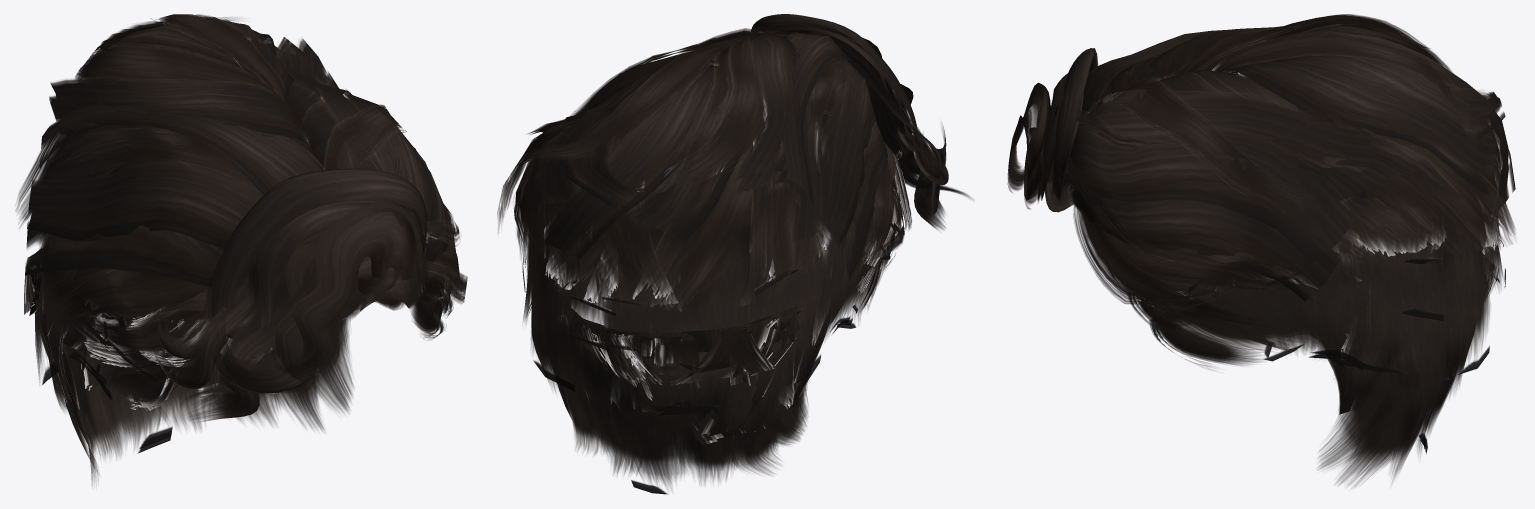
The model's file is curlyside.glb.
3 views of the same model, side by side, from view 1: azimuth 30°, elevation 25°; view 2: azimuth 150°, elevation 25°; view 3: azimuth 270°, elevation 25° (orthographic). The views are drawn at different scales.
Visible parts, largest first — view 1: TRIANGLE - CURLY - SIDE PART, TRIANGLE - CURLY - SIDE PART.002, TRIANGLE - CURLY - SIDE PART.001, TRIANGLE - CURLY - SIDE PART.003; view 2: TRIANGLE - CURLY - SIDE PART, TRIANGLE - CURLY - SIDE PART.001, TRIANGLE - CURLY - SIDE PART.003, TRIANGLE - CURLY - SIDE PART.002; view 3: TRIANGLE - CURLY - SIDE PART, TRIANGLE - CURLY - SIDE PART.002, TRIANGLE - CURLY - SIDE PART.001, TRIANGLE - CURLY - SIDE PART.003.
Part boxes in pixels (left/top/right/bottom): TRIANGLE - CURLY - SIDE PART: left=15, top=14, right=467, bottom=485; TRIANGLE - CURLY - SIDE PART.002: left=150, top=169, right=429, bottom=421; TRIANGLE - CURLY - SIDE PART.001: left=27, top=18, right=463, bottom=456; TRIANGLE - CURLY - SIDE PART.003: left=154, top=168, right=424, bottom=399; TRIANGLE - CURLY - SIDE PART: left=497, top=27, right=911, bottom=494; TRIANGLE - CURLY - SIDE PART.001: left=500, top=30, right=908, bottom=469; TRIANGLE - CURLY - SIDE PART.003: left=751, top=14, right=968, bottom=229; TRIANGLE - CURLY - SIDE PART.002: left=751, top=14, right=968, bottom=229; TRIANGLE - CURLY - SIDE PART: left=1062, top=14, right=1515, bottom=486; TRIANGLE - CURLY - SIDE PART.002: left=1007, top=48, right=1097, bottom=212; TRIANGLE - CURLY - SIDE PART.001: left=1066, top=17, right=1500, bottom=450; TRIANGLE - CURLY - SIDE PART.003: left=1008, top=48, right=1098, bottom=212.
Bounding box in the file's own units: 0.2093 × 0.2457 × 0.2756.
Materials: 1 (1 with a texture image).
